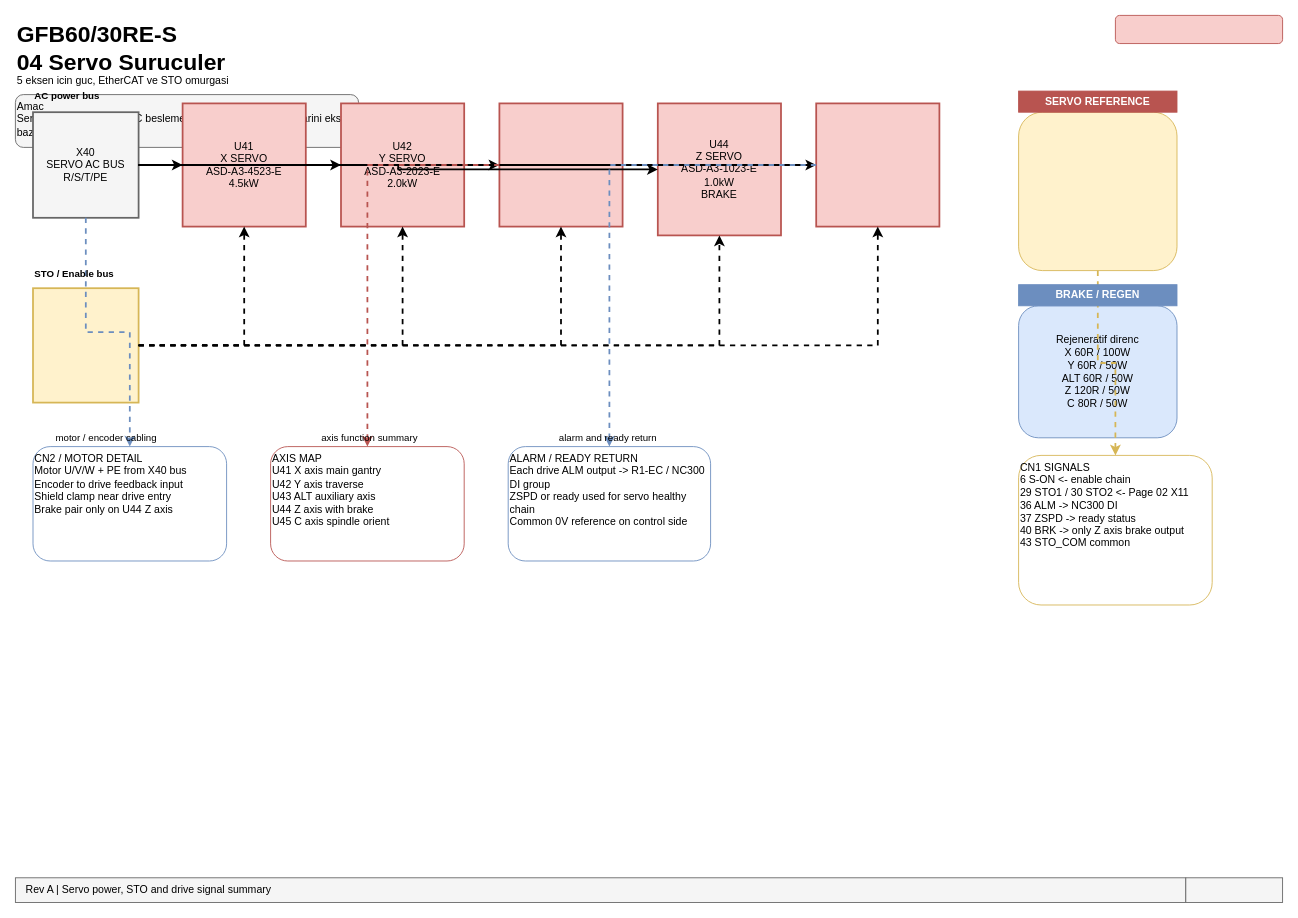
Image size: 1298x918. Some labels were removed from this diagram. Each missing label, with the centre of its shape:
CN1 kritikler 6 S-ON 29 STO1 30 STO2 36 ALM 37 ZSPD 38 POS 40 BRK 43 STO_COM: point 1097,191
PAGE 04 / SERVO AXES: point 1199,29
Sheet 4 / 6: point 1234,889
U43 ALT SERVO ASD-A3-2023-E 2.0kW: point 560,164
U45 C SERVO ASD-A3-1523-E 1.5kW: point 877,164
X41 STO / ENABLE BUS STO1 STO2 S-ON: point 85,345
